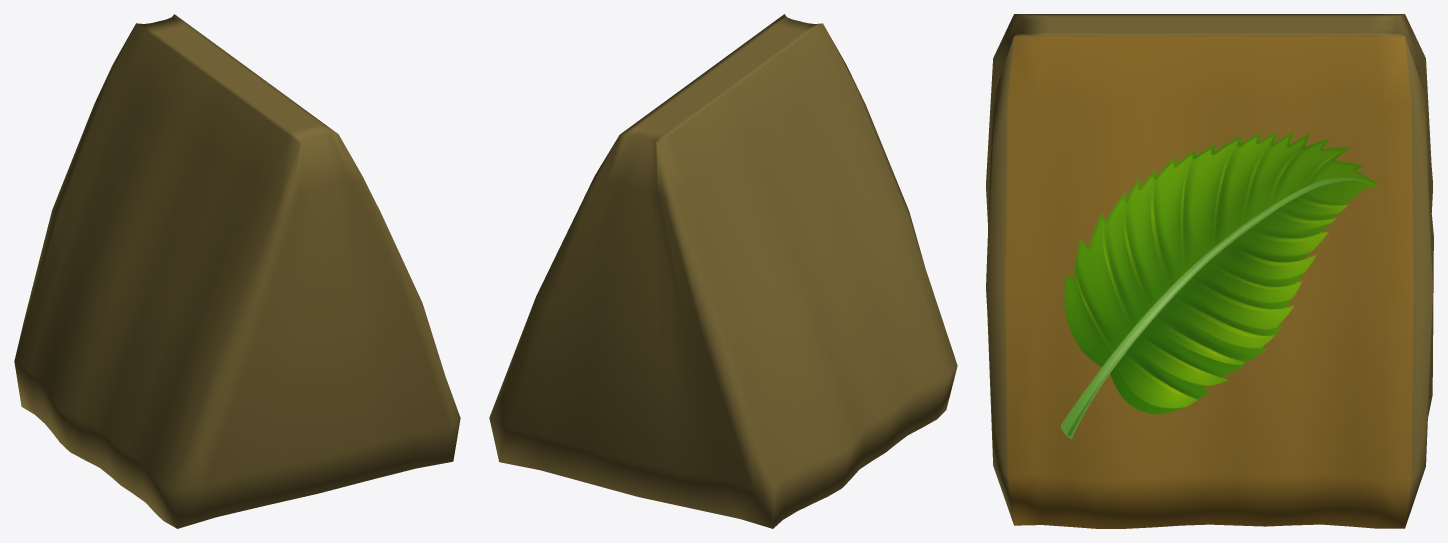
File: Graden fertiliser.fbx
3 renders of one model, left to right at view 1: azimuth 30°, elevation 25°; view 2: azimuth 150°, elevation 25°; view 3: azimuth 270°, elevation 25°, orthographic. The views are drawn at different scales.
Parts seen in each view (by area): view 1: pCube346; view 2: pCube346; view 3: pCube346.
Boxes of the visible parts, <box> form: pCube346: <box>14,14,460,528</box>; pCube346: <box>489,14,957,528</box>; pCube346: <box>986,14,1433,528</box>.
Bounding box in the file's own units: 75.23 × 84.84 × 81.44.
